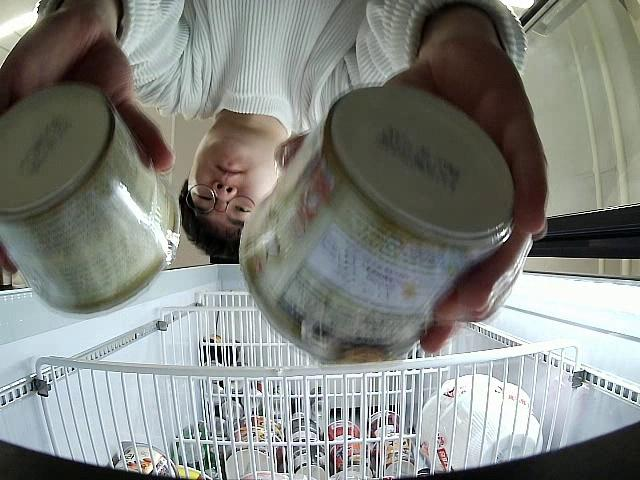00_hand: (275, 39, 547, 352), (0, 17, 176, 277)
04_chapagetti_S: (239, 87, 515, 364), (3, 83, 182, 315)
